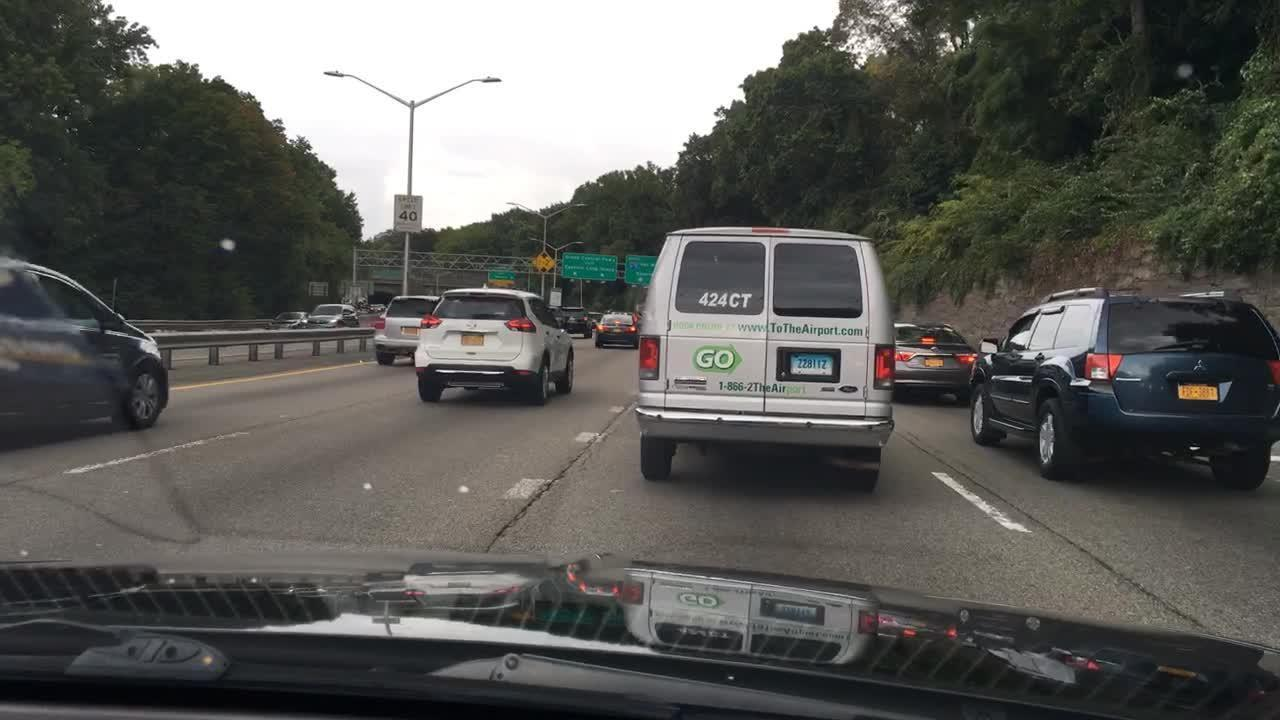ford: (836, 384, 862, 395)
